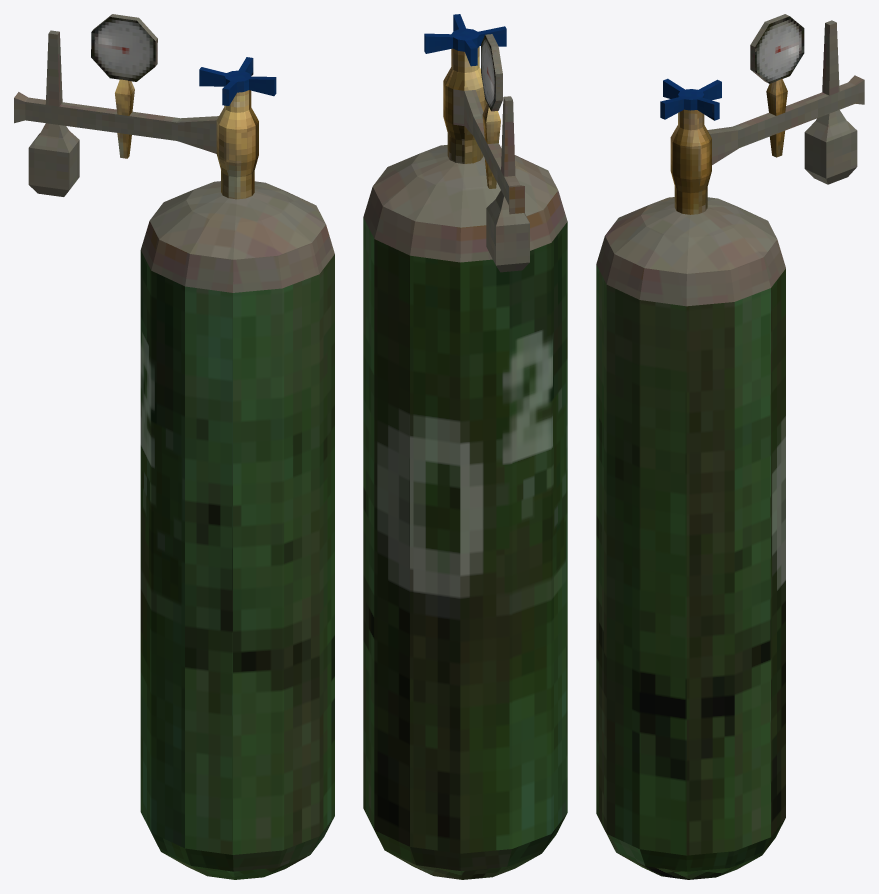
Rendered from SM_OxygenTank.fbx.
3 renders of one model, left to right at view 1: azimuth 30°, elevation 25°; view 2: azimuth 150°, elevation 25°; view 3: azimuth 270°, elevation 25°, orthographic. The views are drawn at different scales.
Parts seen in each view (by area): view 1: SM_OxygenTank; view 2: SM_OxygenTank; view 3: SM_OxygenTank.
Boxes of the visible parts, x1,y1,x2,y2 form: SM_OxygenTank: [14, 14, 334, 879]; SM_OxygenTank: [363, 14, 567, 879]; SM_OxygenTank: [596, 14, 864, 879].
Size of the model in its own units: 29.29 by 103 by 31.07.
